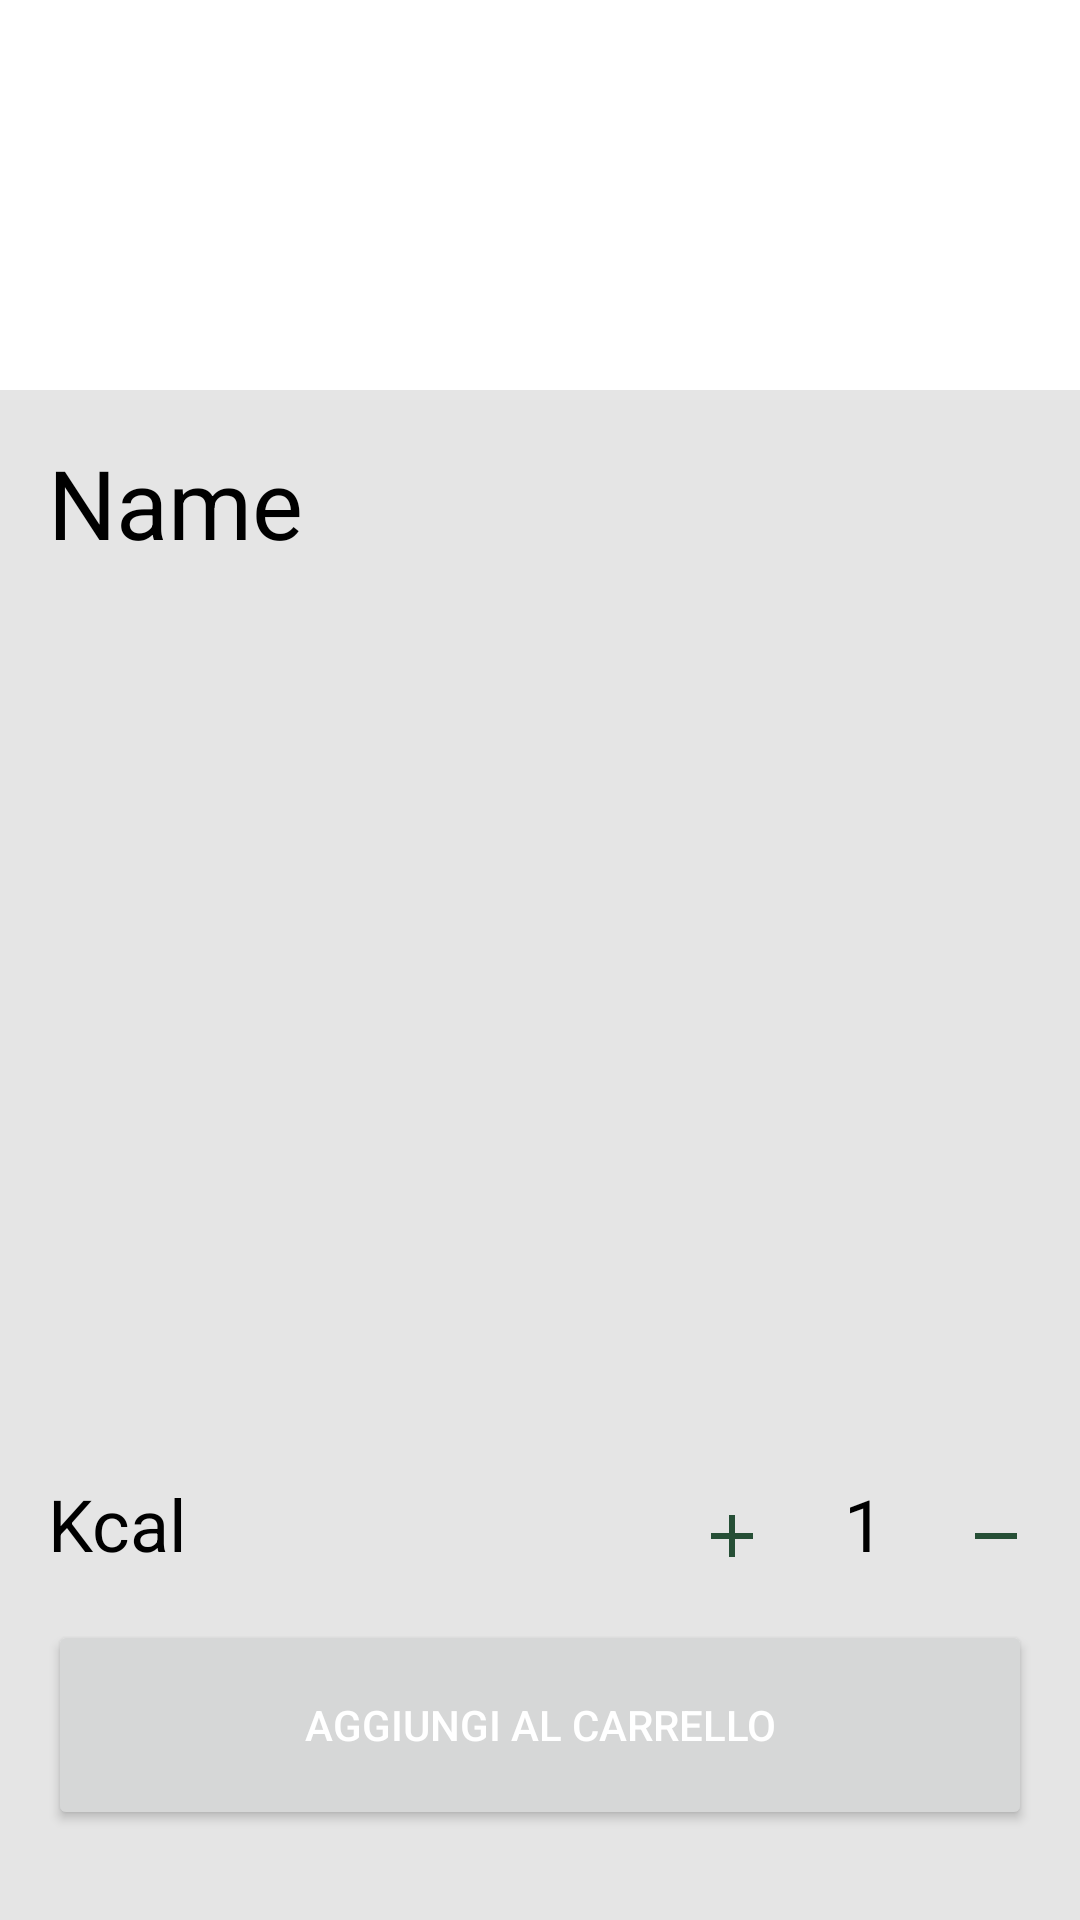

Where to tap for icons on this 1080 × 1920 app screen, as [x,y]:
Aumenta quantità: [732,1536]
